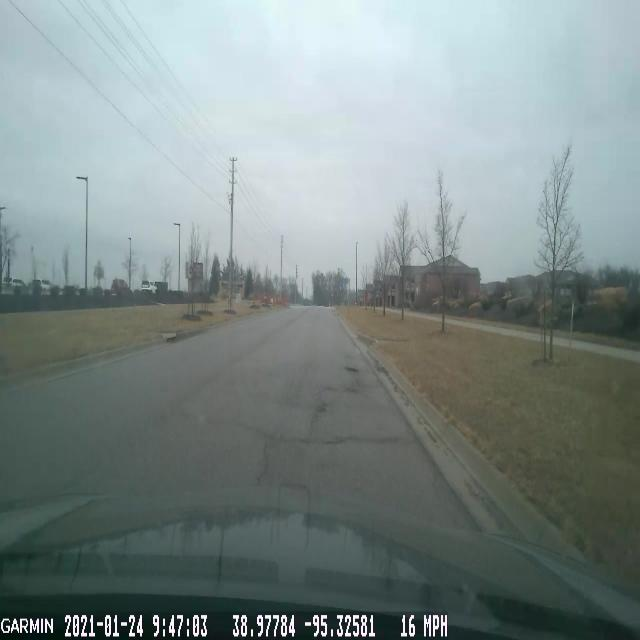Pothole: (342, 364, 364, 375)
